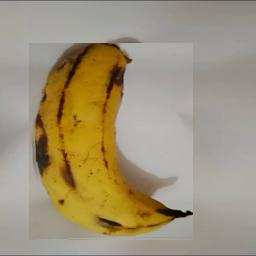Banana Semifresh: (29, 44, 193, 241)
